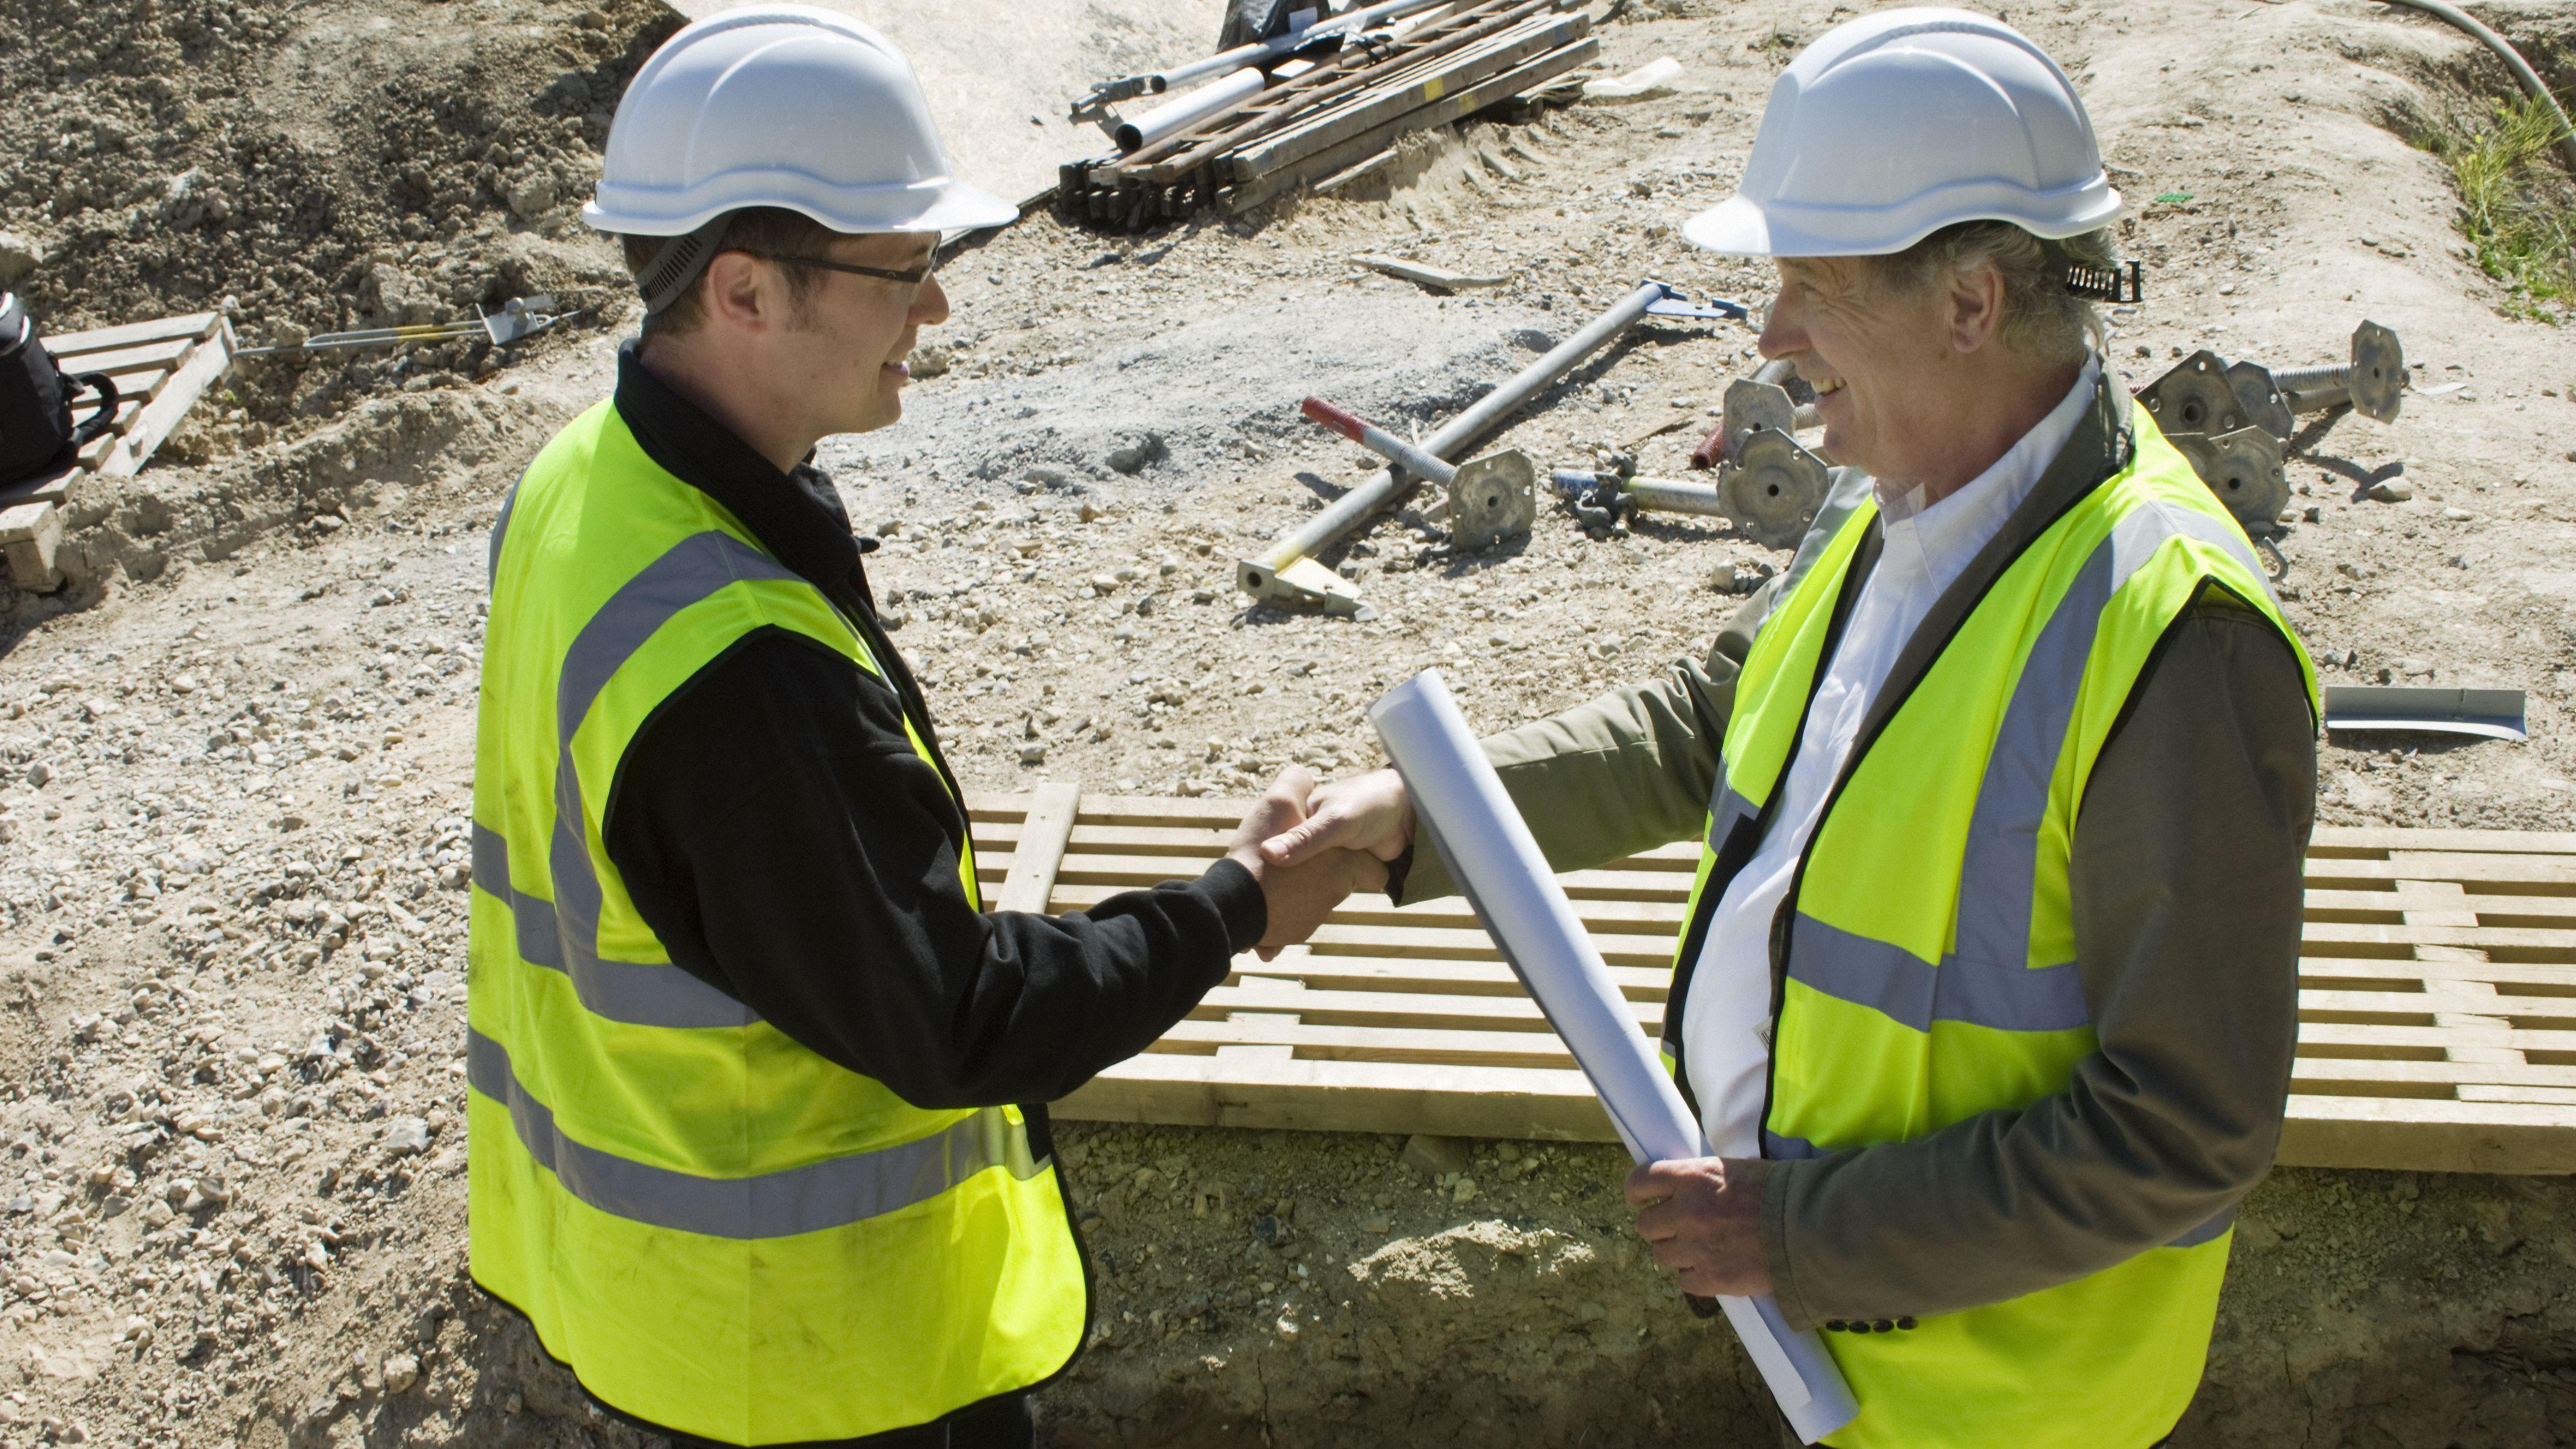helmet: (1737, 7, 2118, 271), (579, 7, 982, 253)
